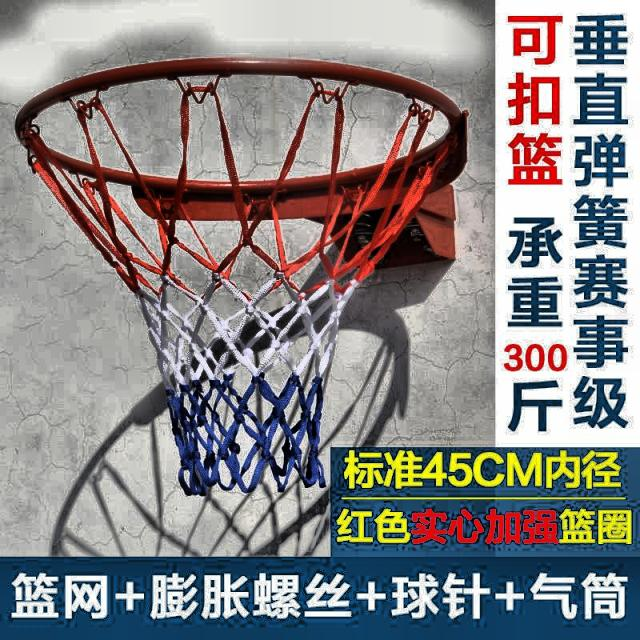rim: (16, 58, 468, 497)
